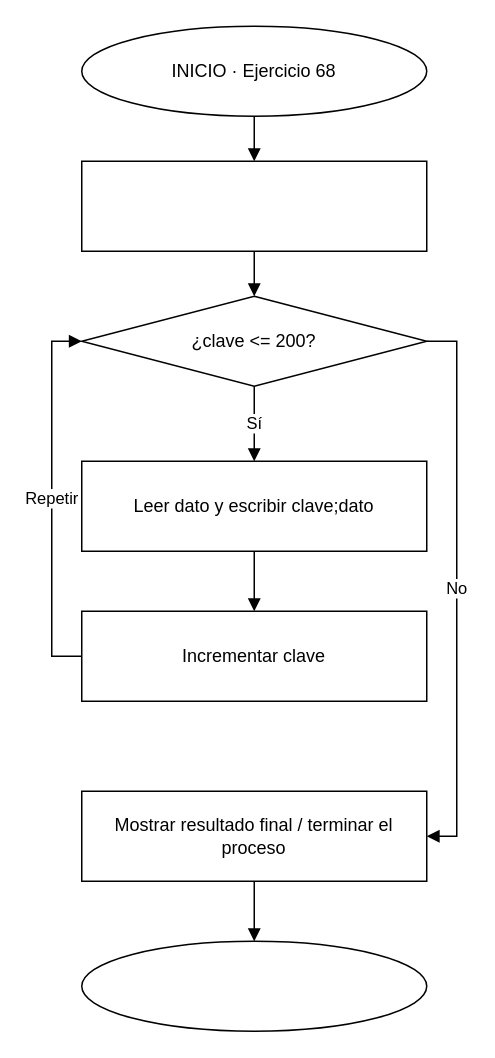
Image size: 495x1058. Some labels were removed from this diagram. The centre of each missing label's shape, as x and y in pixels:
Abrir directo.txt; clave = 1: (253,205)
FIN: (253,985)
